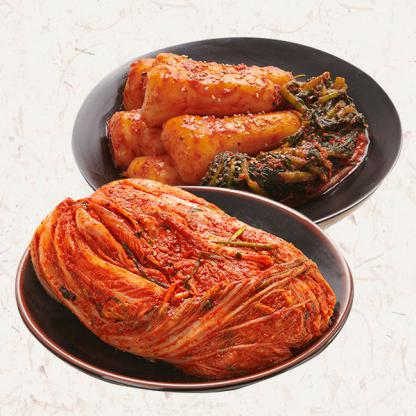kimchi: (31, 180, 336, 388)
